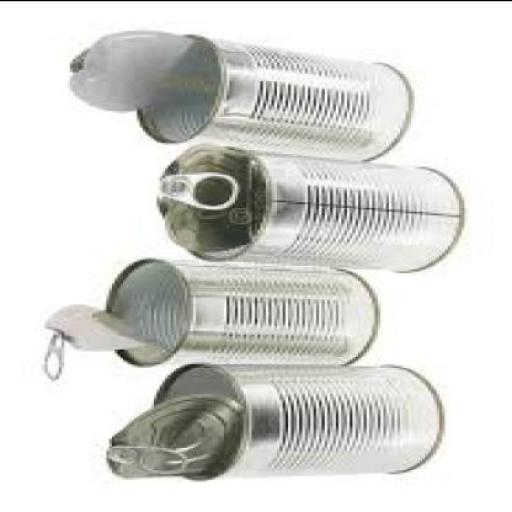metal: (66, 33, 408, 160), (42, 256, 384, 380), (100, 363, 442, 483), (157, 146, 465, 272), (128, 35, 412, 162), (152, 360, 444, 482), (101, 257, 378, 365), (106, 394, 244, 480), (154, 149, 260, 255), (68, 34, 196, 114), (39, 307, 170, 376), (154, 175, 235, 210)
